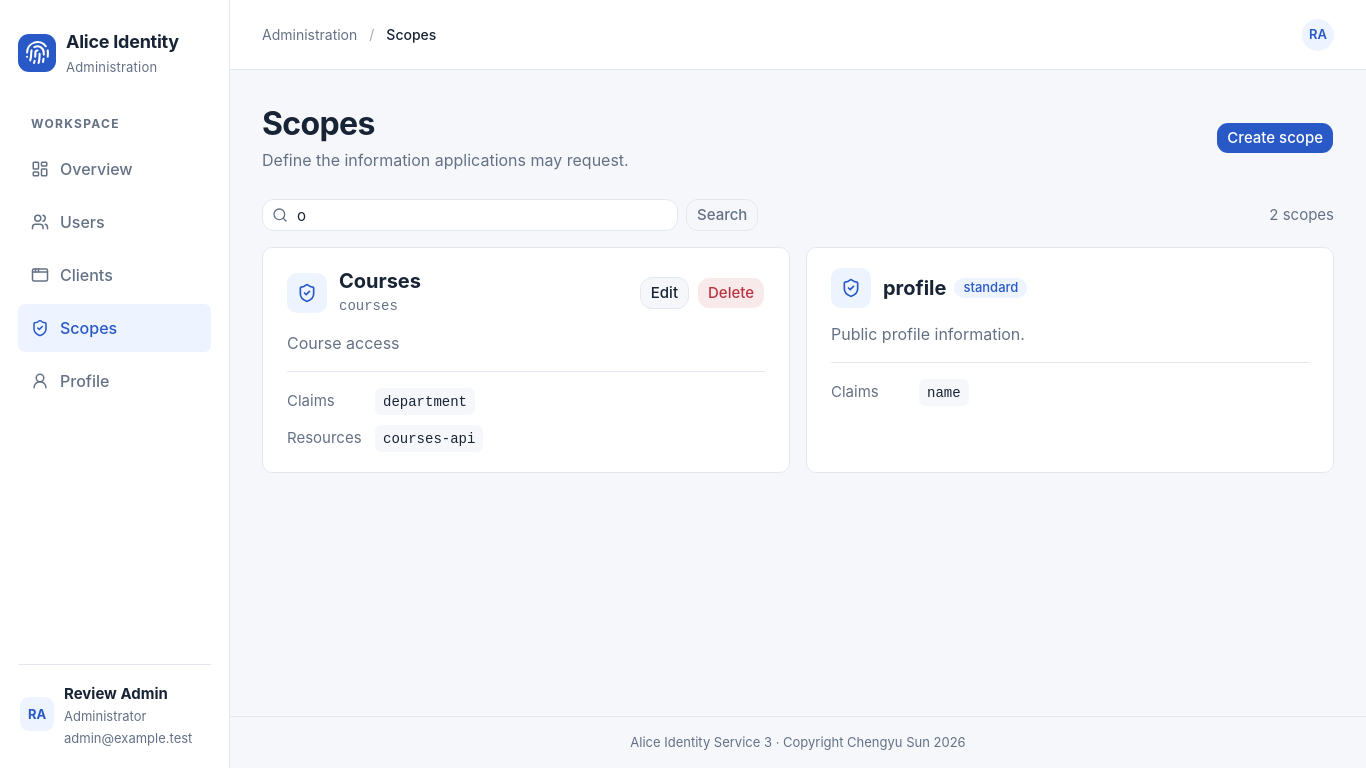
Test case: scope definitions › shows scope definitions on the cards and omits empty resources and read-only actions
Expected: the text "Course access" is shown, [287, 333, 400, 353]
Expected: the text "department" is shown, [383, 394, 467, 410]
Replace the text in the search field named "Search scopes" with "profi". click: (470, 215)
box: [262, 199, 678, 231]
Then press Enter
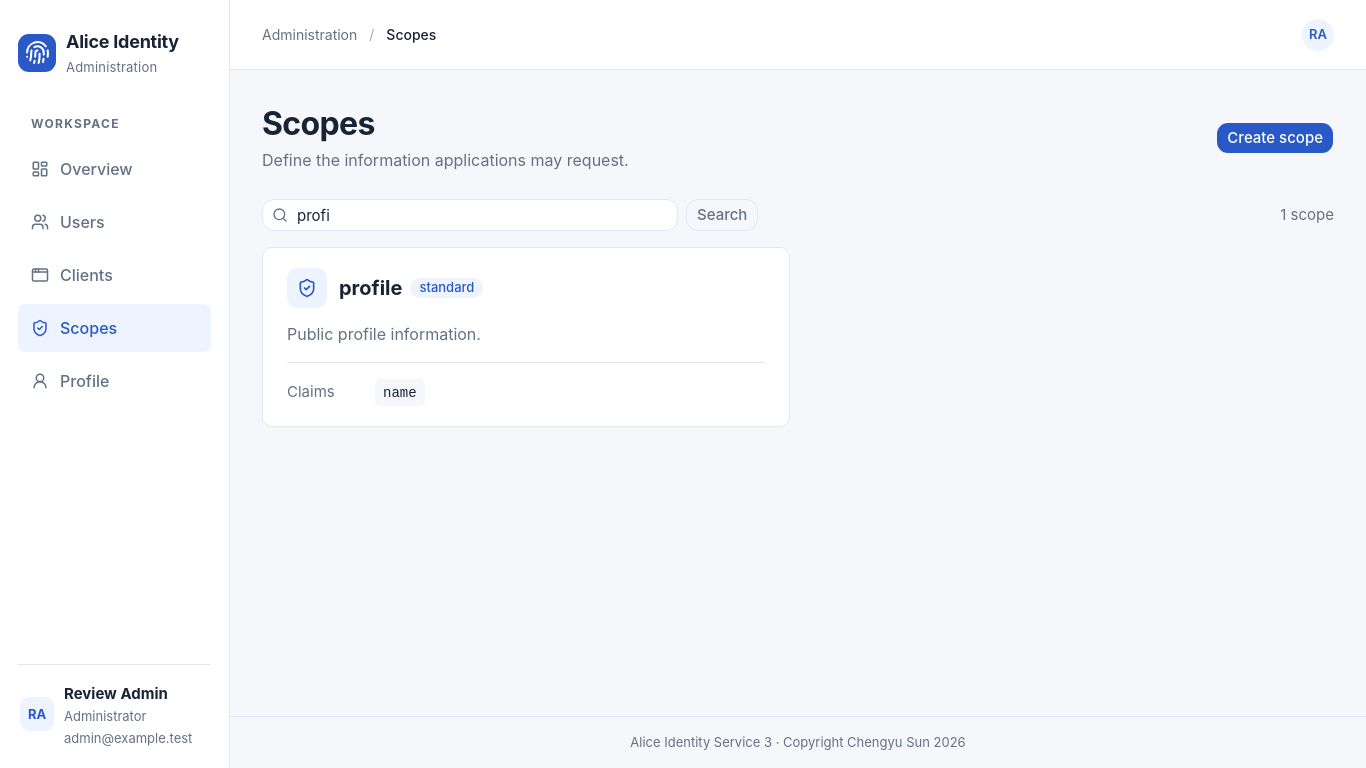
Expected: the heading "profile standard" is shown, [339, 275, 483, 301]
Result: the text "1 scope" is shown at [1280, 204, 1334, 226]
Result: the text "Courses" is gone
